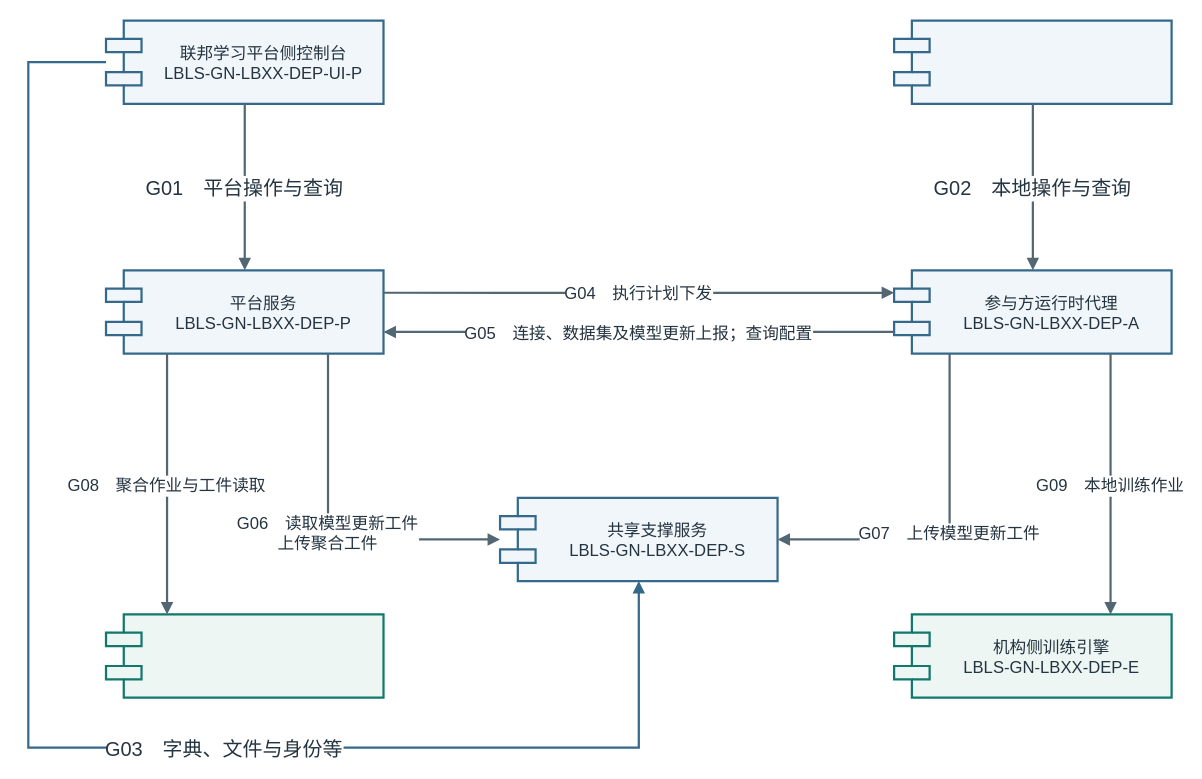
The diagram is 1202 pixels wide and 779 high, and some of its shapes have lost their labels. The shapes that lost their labels are listed below. From the top down, each one's centre as x and y in pixels, then its label:
(x=1032, y=61): 运行时代理控制台 LBLS-GN-LBXX-DEP-UI-A
(x=244, y=655): 平台侧聚合引擎 LBLS-GN-LBXX-DEP-AGG
